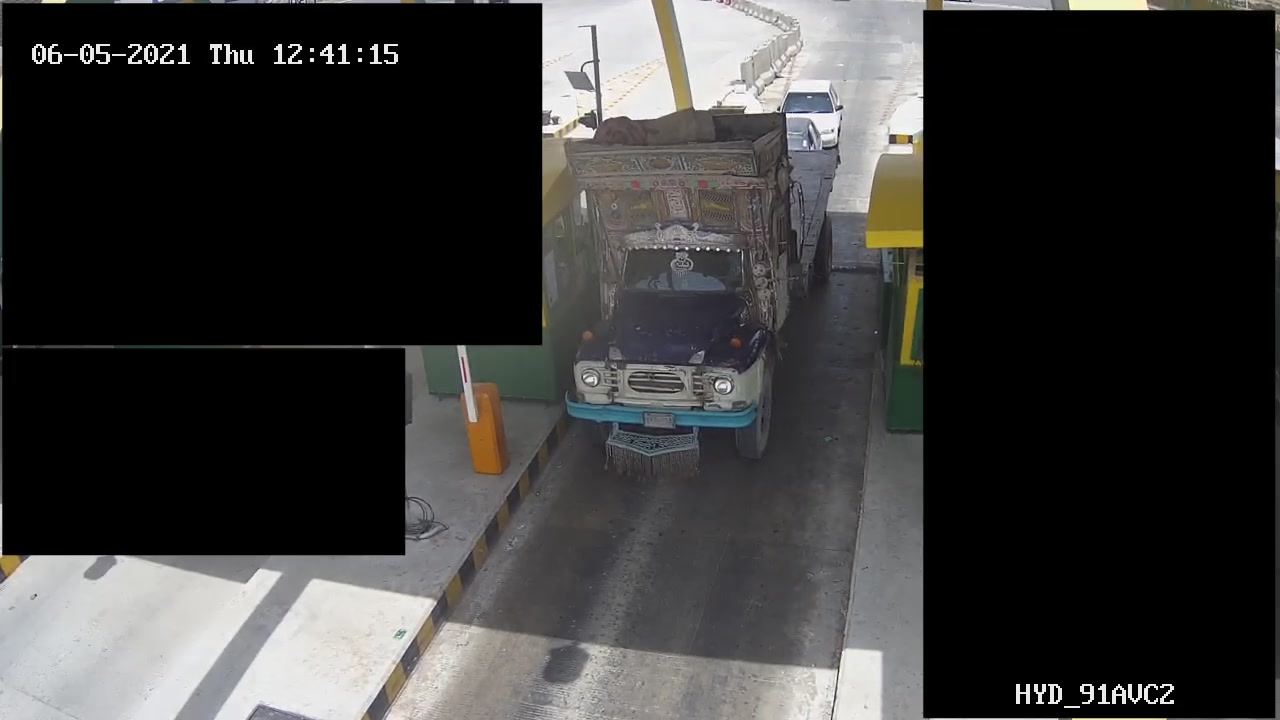F5: (562, 112, 839, 465)
